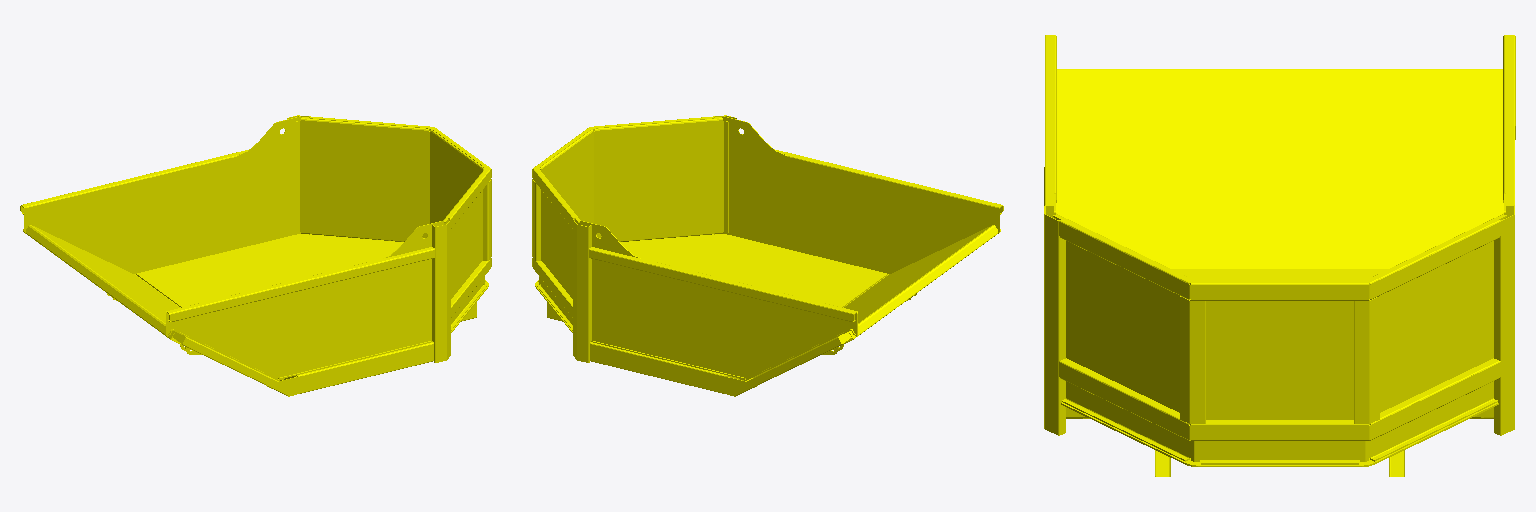
The robot description file, URDF, robot "c30-r":
<?xml version="1.0" encoding="utf-8"?>
<!-- =================================================================================== -->
<!-- |    This document was autogenerated by xacro from c30-r_test.xacro               | -->
<!-- |    EDITING THIS FILE BY HAND IS NOT RECOMMENDED                                 | -->
<!-- =================================================================================== -->
<robot name="c30-r">
  <material name="grey">
    <color rgba="0.4 0.4 0.4 1.0"/>
  </material>
  <material name="yellow">
    <color rgba="1.0 1.0 0.0 1.0"/>
  </material>
  
  <link name="base_link">
    <visual>
      <origin rpy="1.57079632679 0 3.14159265359" xyz="0 0 0.0"/>
      <geometry>
        <mesh filename="package://c30-r_description/meshes/carrier.stl" scale="0.001 0.001 0.001"/>
      </geometry>
      <material name="grey"/>
    </visual>
    <!--<collision>
      <origin xyz="0 0 0.0" rpy="1.57 0 3.141592"/>
      <geometry>
        <mesh filename="package://c30-r_description/meshes/carrier.stl" scale="0.001 0.001 0.001"/>
      </geometry>
    </collision>-->
    <collision>
      <origin xyz="-0.5 0 0.22" rpy="0.0 0.0 0.0"/>
      <geometry>
        <box size ="3.25 1.5 0.8"/>
      </geometry>
    </collision>
    <inertial>
      <mass value="2429"/>
      
      <origin rpy="0 0 0" xyz="-0.389 -0.01 0.438"/>
      <inertia ixx="893.2" ixy="264.1" ixz="-22.5" iyy="1904.5" iyz="-5.5" izz="1743.4"/>
    </inertial>
  </link>
  <!--mass value is listed in maintenance manual -->

  <link name="body_hinge_link">
    <inertial>
      <mass value="0.001"/>
      <origin xyz="0 0 0" rpy="0 0 0"/>
      <inertia ixx="0.001" ixy="0" ixz="0" iyy="0.001" iyz="0" izz="0.001"/>
    </inertial>
  </link>

  <link name="bed_link">
    <visual>
      <origin xyz="0 0 0.0" rpy="1.57075 0 3.1415"/>
      <geometry>
        <mesh filename="package://c30-r_description/meshes/bed_removed.stl" scale="0.001 0.001 0.001"/>
      </geometry>
      <material name="yellow"/>
    </visual>
    <collision>
      <origin xyz="0 0 0.0" rpy="1.57075 0 3.1415"/>
      <geometry>
        <mesh filename="package://c30-r_description/meshes/bed_removed.stl" scale="0.001 0.001 0.001"/>
      </geometry>
    </collision>
    <inertial>
      <mass value="346"/> 
      <origin xyz="-1.5 0.0 0.892" rpy="0 0 0"/>
      <inertia ixx="92.3" ixy="-4.0" ixz="-0.1" iyy="206.5" iyz="-0.04" izz="140.5"/>
    </inertial>
  </link>
  
  <!--mass value is listed in maintenance manual -->
  <link name="bed_hinge_link">
    <inertial>
      <mass value="0.001"/>
      <origin xyz="0 0 0" rpy="0 0 0"/> 
      <inertia ixx="0.001" ixy="0" ixz="0" iyy="0.001" iyz="0" izz="0.001"/>
    </inertial>
  </link>
    
  <joint name="base_to_body_hinge" type="fixed">
    <origin xyz="-2.25 0 0.85" rpy="0 0 0"/>
    <!--origin xyz="-2.25 0 0.85" rpy="0 0 1.57075"/-->
    <parent link="base_link"/>
    <child link="body_hinge_link"/>
  </joint>
  
  <joint name="body_hinge_to_bed_hinge" type="revolute">
    <origin xyz="0 0 0" rpy="0 0 0"/>
    <!--<origin xyz="-2.25 0 0.85" rpy="0 0 ${pi/2}"/>-->
    <!--origin xyz="-2.25 0 0.85" rpy="0 0 1.57075"/-->
    <parent link="body_hinge_link"/>
    <!--parent link="base_link"/-->
    <!--<parent link="body_link"/> -->
    <child link="bed_hinge_link"/>
    <!-- <limit effort="1" velocity="1" lower="${-90*TO_RADIAN}" upper="${0*TO_RADIAN}" />-->
    <limit effort="1" velocity="1" lower="-1.57075" upper="0" />
    <axis xyz="0 1 0"/>
  </joint>
  
  
  <joint name="bed_hinge_to_bed" type="fixed">
    <origin xyz="2.25 0 -0.85" rpy="0 0 0"/>
    <parent link="bed_hinge_link"/>
    <!-- parent link="base_link"/-->
    <!-- <parent link="body_link"/> -->
    <child link="bed_link"/>
  </joint>

  <joint name="left_rear_wheel_joint" type="continuous">
    <origin rpy="-1.5707963267948966 0 0" xyz="-1.45 0.6 0.1"/>
    <parent link="base_link"/>
    <child link="left_rear_wheel_link"/>
    <axis xyz="0 0 1"/>
  </joint>
  <transmission name="left_rear_wheel_trans" type="SimpleTransmission">
    <type>transmission_interface/SimpleTransmission</type>
    <actuator name="left_rear_wheel_motor">
      <mechanicalReduction>1</mechanicalReduction>
    </actuator>
    <joint name="left_rear_wheel_joint">
      <hardwareInterface>hardware_interface/VelocityJointInterface</hardwareInterface>
    </joint>
  </transmission>
  <link name="left_rear_wheel_link">
    <inertial>
      <origin rpy="0 0 0" xyz="0 0 0"/>
      <mass value="10"/>
      <inertia ixx="5" ixy="0.0" ixz="0.0" iyy="5" iyz="0.0" izz="5"/>
    </inertial>
    <!-- <visual>
        <geometry>
          <cylinder radius="0.5" length="0.5" />
        </geometry>
      </visual> -->
    <collision>
      <geometry>
        <cylinder length="0.3" radius="0.29"/>
      </geometry>
    </collision>
  </link>

  <joint name="left_middle_wheel_joint" type="continuous">
    <origin rpy="-1.5707963267948966 0 0" xyz="-0.775 0.6 0.1"/>
    <parent link="base_link"/>
    <child link="left_middle_wheel_link"/>
    <axis xyz="0 0 1"/>
  </joint>
  <transmission name="left_middle_wheel_trans" type="SimpleTransmission">
    <type>transmission_interface/SimpleTransmission</type>
    <actuator name="left_middle_wheel_motor">
      <mechanicalReduction>1</mechanicalReduction>
    </actuator>
    <joint name="left_middle_wheel_joint">
      <hardwareInterface>hardware_interface/VelocityJointInterface</hardwareInterface>
    </joint>
  </transmission>
  <link name="left_middle_wheel_link">
    <inertial>
      <origin rpy="0 0 0" xyz="0 0 0"/>
      <mass value="10"/>
      <inertia ixx="5" ixy="0.0" ixz="0.0" iyy="5" iyz="0.0" izz="5"/>
    </inertial>
    <!-- <visual>
        <geometry>
          <cylinder radius="0.5" length="0.5" />
        </geometry>
      </visual> -->
    <collision>
      <geometry>
        <cylinder length="0.3" radius="0.29"/>
      </geometry>
    </collision>
  </link>

  <joint name="left_front_wheel_joint" type="continuous">
    <origin rpy="-1.5707963267948966 0 0" xyz="-0.1 0.6 0.1"/>
    <parent link="base_link"/>
    <child link="left_front_wheel_link"/>
    <axis xyz="0 0 1"/>
  </joint>
  <transmission name="left_front_wheel_trans" type="SimpleTransmission">
    <type>transmission_interface/SimpleTransmission</type>
    <actuator name="left_front_wheel_motor">
      <mechanicalReduction>1</mechanicalReduction>
    </actuator>
    <joint name="left_front_wheel_joint">
      <hardwareInterface>hardware_interface/VelocityJointInterface</hardwareInterface>
    </joint>
  </transmission>
  <link name="left_front_wheel_link">
    <inertial>
      <origin rpy="0 0 0" xyz="0 0 0"/>
      <mass value="10"/>
      <inertia ixx="5" ixy="0.0" ixz="0.0" iyy="5" iyz="0.0" izz="5"/>
    </inertial>
    <!-- <visual>
        <geometry>
          <cylinder radius="0.5" length="0.5" />
        </geometry>
      </visual> -->
    <collision>
      <geometry>
        <cylinder length="0.3" radius="0.29"/>
      </geometry>
    </collision>
  </link>
  
  <joint name="right_rear_wheel_joint" type="continuous">
    <origin rpy="-1.5707963267948966 0 0" xyz="-1.45 -0.6 0.1"/>
    <parent link="base_link"/>
    <child link="right_rear_wheel_link"/>
    <axis xyz="0 0 1"/>
  </joint>
  <transmission name="right_rear_wheel_trans" type="SimpleTransmission">
    <type>transmission_interface/SimpleTransmission</type>
    <actuator name="right_rear_wheel_motor">
      <mechanicalReduction>1</mechanicalReduction>
    </actuator>
    <joint name="right_rear_wheel_joint">
      <hardwareInterface>hardware_interface/VelocityJointInterface</hardwareInterface>
    </joint>
  </transmission>
  <link name="right_rear_wheel_link">
    <inertial>
      <origin rpy="0 0 0" xyz="0 0 0"/>
      <mass value="10"/>
      <inertia ixx="5" ixy="0.0" ixz="0.0" iyy="5" iyz="0.0" izz="5"/>
    </inertial>
    <!-- <visual>
        <geometry>
          <cylinder radius="0.5" length="0.5" />
        </geometry>
      </visual> -->
    <collision>
      <geometry>
        <cylinder length="0.3" radius="0.29"/>
      </geometry>
    </collision>
  </link>

  <joint name="right_middle_wheel_joint" type="continuous">
    <origin rpy="-1.5707963267948966 0 0" xyz="-0.775 -0.6 0.1"/>
    <parent link="base_link"/>
    <child link="right_middle_wheel_link"/>
    <axis xyz="0 0 1"/>
  </joint>
  <transmission name="right_middle_wheel_trans" type="SimpleTransmission">
    <type>transmission_interface/SimpleTransmission</type>
    <actuator name="right_middle_wheel_motor">
      <mechanicalReduction>1</mechanicalReduction>
    </actuator>
    <joint name="right_middle_wheel_joint">
      <hardwareInterface>hardware_interface/VelocityJointInterface</hardwareInterface>
    </joint>
  </transmission>
  <link name="right_middle_wheel_link">
    <inertial>
      <origin rpy="0 0 0" xyz="0 0 0"/>
      <mass value="10"/>
      <inertia ixx="5" ixy="0.0" ixz="0.0" iyy="5" iyz="0.0" izz="5"/>
    </inertial>
    <!-- <visual>
        <geometry>
          <cylinder radius="0.5" length="0.5" />
        </geometry>
      </visual> -->
    <collision>
      <geometry>
        <cylinder length="0.3" radius="0.29"/>
      </geometry>
    </collision>
  </link>

  <joint name="right_front_wheel_joint" type="continuous">
    <origin rpy="-1.5707963267948966 0 0" xyz="-0.1 -0.6 0.1"/>
    <parent link="base_link"/>
    <child link="right_front_wheel_link"/>
    <axis xyz="0 0 1"/>
  </joint>
  <transmission name="right_front_wheel_trans" type="SimpleTransmission">
    <type>transmission_interface/SimpleTransmission</type>
    <actuator name="right_front_wheel_motor">
      <mechanicalReduction>1</mechanicalReduction>
    </actuator>
    <joint name="right_front_wheel_joint">
      <hardwareInterface>hardware_interface/VelocityJointInterface</hardwareInterface>
    </joint>
  </transmission>
  <link name="right_front_wheel_link">
    <inertial>
      <origin rpy="0 0 0" xyz="0 0 0"/>
      <mass value="10"/>
      <inertia ixx="5" ixy="0.0" ixz="0.0" iyy="5" iyz="0.0" izz="5"/>
    </inertial>
    <!-- <visual>
        <geometry>
          <cylinder radius="0.5" length="0.5" />
        </geometry>
      </visual> -->
    <collision>
      <geometry>
        <cylinder length="0.3" radius="0.29"/>
      </geometry>
    </collision>
  </link>
  
</robot>

--- What the picture shows (computed from the rendered views, not written in the file) ---
Views: 3 orthographic renders of the robot side by side, from view 1: azimuth 30°, elevation 25°; view 2: azimuth 150°, elevation 25°; view 3: azimuth 270°, elevation 25°.
Robot: c30-r — 10 links, 9 joints (1 revolute, 6 continuous, 2 fixed); root link base_link; default pose: all joints at 0.
Links seen in each view (by area): view 1: bed_link; view 2: bed_link; view 3: bed_link.
Link boxes in pixels (box(x1,y1,x2,y2)): bed_link: box(20, 115, 491, 396); bed_link: box(532, 115, 1003, 396); bed_link: box(1044, 35, 1515, 476).
Bounding box of the posed robot: 2.08 × 1.46 × 0.7411 m (x, y, z).
Meshes: 2 distinct files referenced, 1 mesh visuals loaded (1 binary STL); not drawn: 1 (reference not matched to a file when rendering).